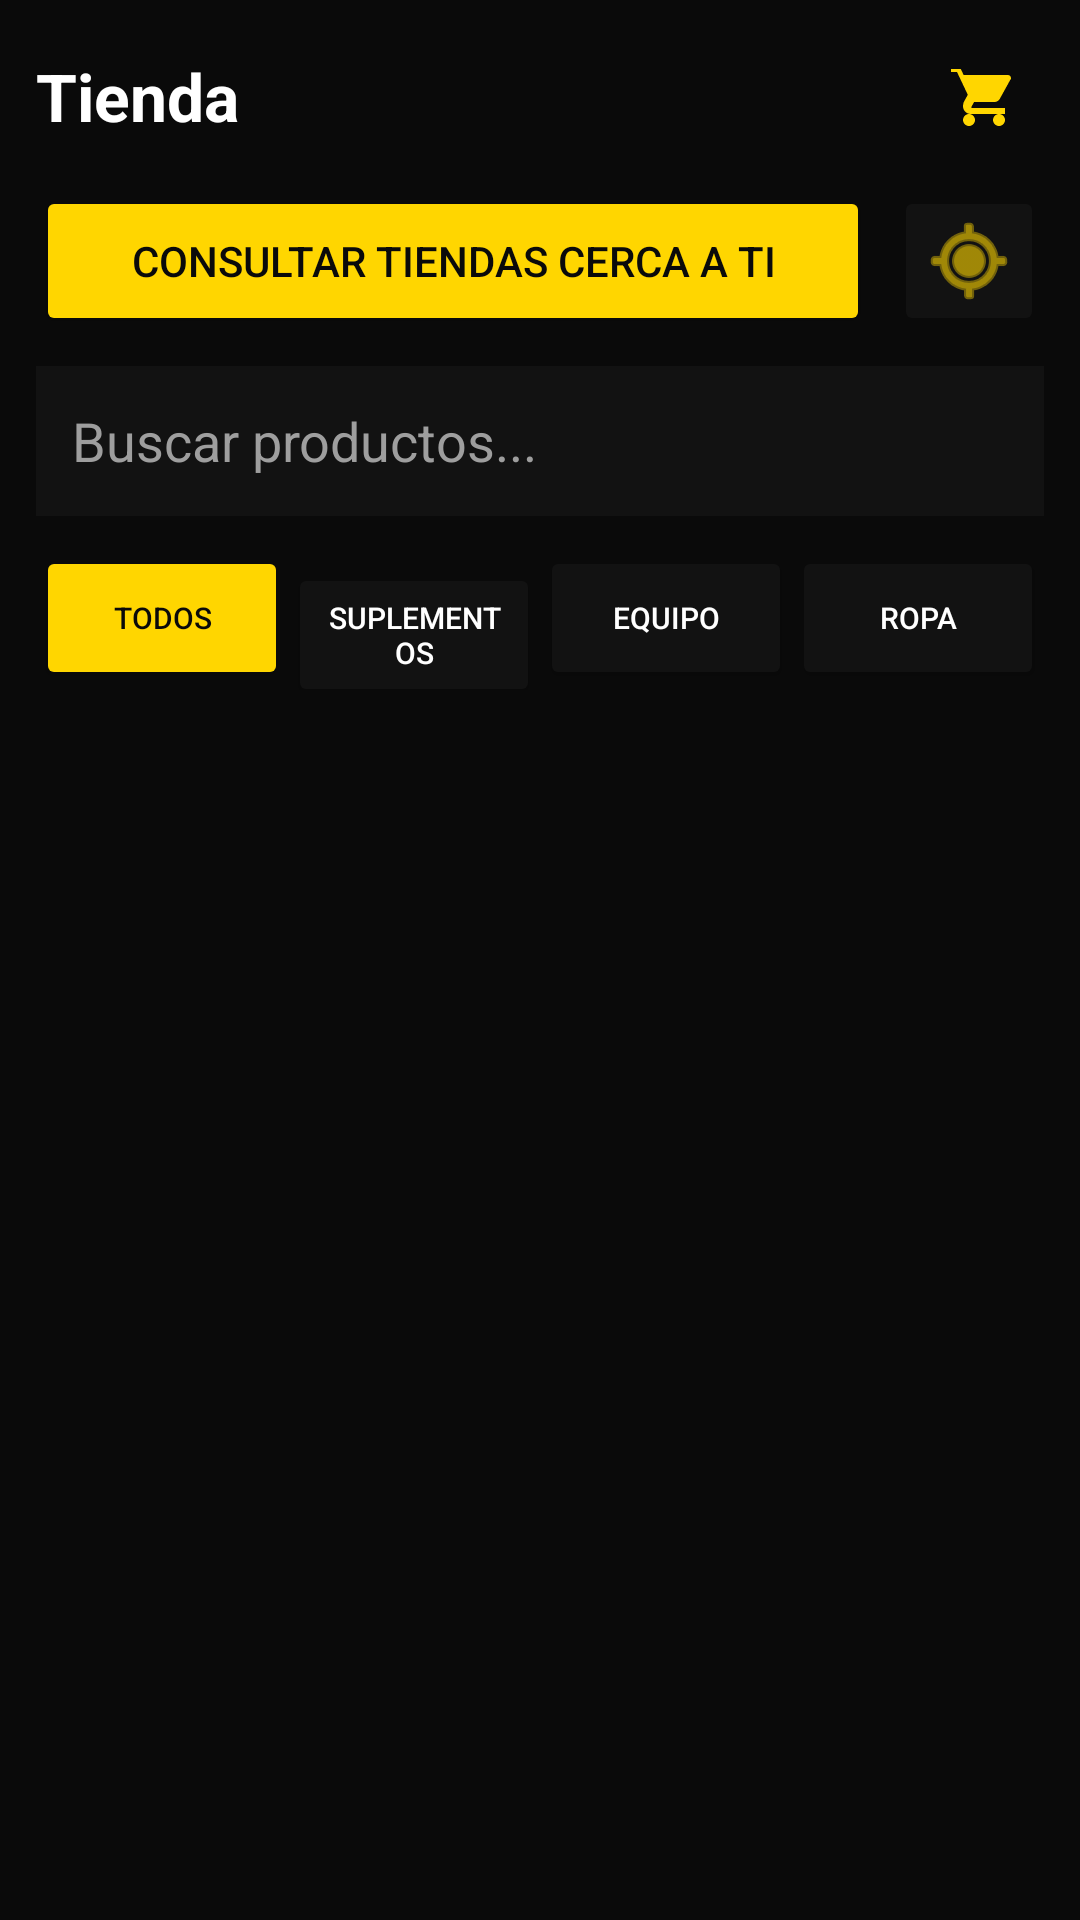

Where to tap for icons on this 1080 x 1920 app screen, as point (x, y):
carrito: point (981, 97)
mylocation: point (969, 261)
